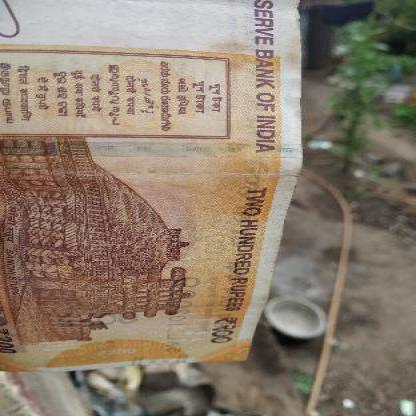New200Back: (0, 0, 302, 369)
